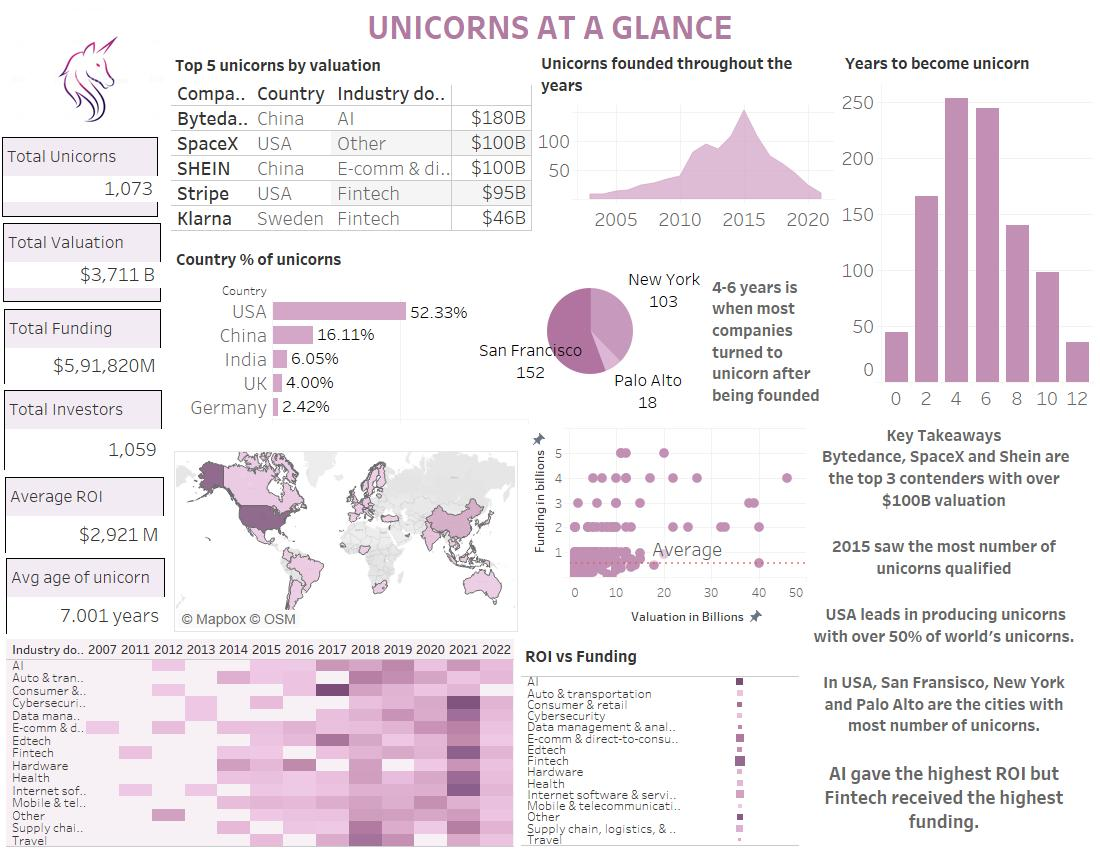

What the dashboard file says about the page in this screenshot:
{"tool":"tableau","page":{"name":"Unicorns at a glance","canvas":[1100,850],"ordinal":0},"visuals":[{"type":"image","box":[1,2,173,153]},{"type":"title","box":[8,8,1084,37]},{"type":"worksheet","title":"Count of unicorns throughout the years","mark":"Area","rows":["Company"],"cols":["Year Founded"],"box":[537,46,297,185]},{"type":"worksheet","title":"Years to become unicorn","mark":"Automatic","rows":["Company"],"cols":["Age of unicorn (bin)"],"box":[841,46,252,365]},{"type":"worksheet","title":"Top 5","mark":"Text","rows":["Company","Country"],"box":[171,48,365,191]},{"type":"worksheet","title":"Total Unicorns","mark":"Automatic","box":[2,137,156,80]},{"type":"worksheet","title":"Total Valuation","mark":"Automatic","box":[3,223,158,79]},{"type":"worksheet","title":"Country % of unicorns","mark":"Bar","rows":["Country"],"cols":["Company"],"box":[172,242,356,194]},{"type":"text","box":[708,244,127,195]},{"type":"worksheet","title":"City in US","mark":"Pie","box":[479,245,222,172]},{"type":"worksheet","title":"Total Funding","mark":"Automatic","box":[4,309,157,75]},{"type":"worksheet","title":"Total Investors","mark":"Automatic","box":[4,390,158,80]},{"type":"text","box":[806,420,276,424]},{"type":"worksheet","title":"Valuation vs Funding","mark":"Automatic","rows":["Calculation_1269733647531417600"],"cols":["Valuation - Split 1"],"box":[524,428,282,204]},{"type":"worksheet","title":"Map view","mark":"Multipolygon","box":[174,451,344,181]},{"type":"worksheet","title":"Average ROI","mark":"Automatic","box":[5,477,159,76]},{"type":"worksheet","title":"Average age of unicorns","mark":"Automatic","box":[6,558,159,76]},{"type":"worksheet","title":"Funding per domain throughout the years","mark":"Automatic","cols":["Date Joined"],"box":[6,639,508,208]},{"type":"worksheet","title":"ROI vs Funding","mark":"Automatic","box":[521,639,278,207]}]}

Visuals, with their boxes in screenshot pixels (x1, y1, x2, y2), scaled from the page's 1100x850 canvas onto the 1100x850 screenshot:
image: (1, 2, 174, 155)
title: (8, 8, 1092, 45)
"Count of unicorns throughout the years" worksheet (Area marks): (537, 46, 834, 231)
"Years to become unicorn" worksheet: (841, 46, 1093, 411)
"Top 5" worksheet (Text marks): (171, 48, 536, 239)
"Total Unicorns" worksheet: (2, 137, 158, 217)
"Total Valuation" worksheet: (3, 223, 161, 302)
"Country % of unicorns" worksheet (Bar marks): (172, 242, 528, 436)
text: (708, 244, 835, 439)
"City in US" worksheet (Pie marks): (479, 245, 701, 417)
"Total Funding" worksheet: (4, 309, 161, 384)
"Total Investors" worksheet: (4, 390, 162, 470)
text: (806, 420, 1082, 844)
"Valuation vs Funding" worksheet: (524, 428, 806, 632)
"Map view" worksheet (Multipolygon marks): (174, 451, 518, 632)
"Average ROI" worksheet: (5, 477, 164, 553)
"Average age of unicorns" worksheet: (6, 558, 165, 634)
"Funding per domain throughout the years" worksheet: (6, 639, 514, 847)
"ROI vs Funding" worksheet: (521, 639, 799, 846)
